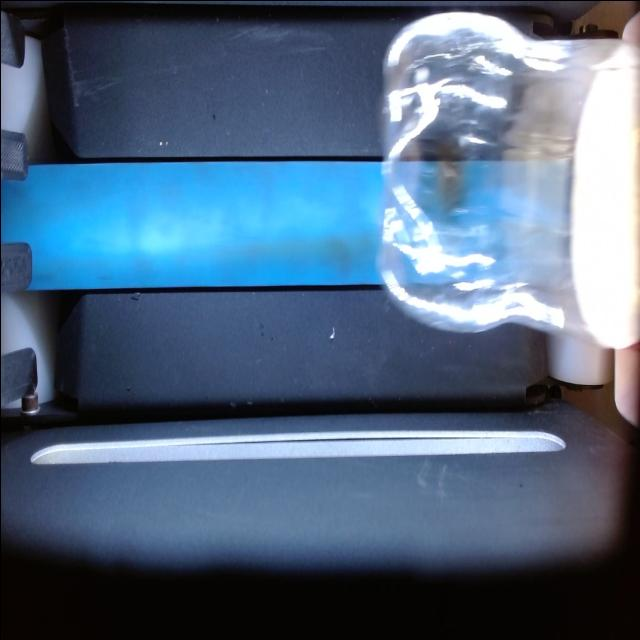bottle: (380, 11, 640, 347)
